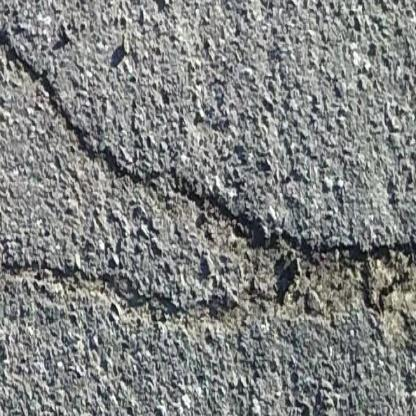Cracks: (0, 22, 416, 359)
